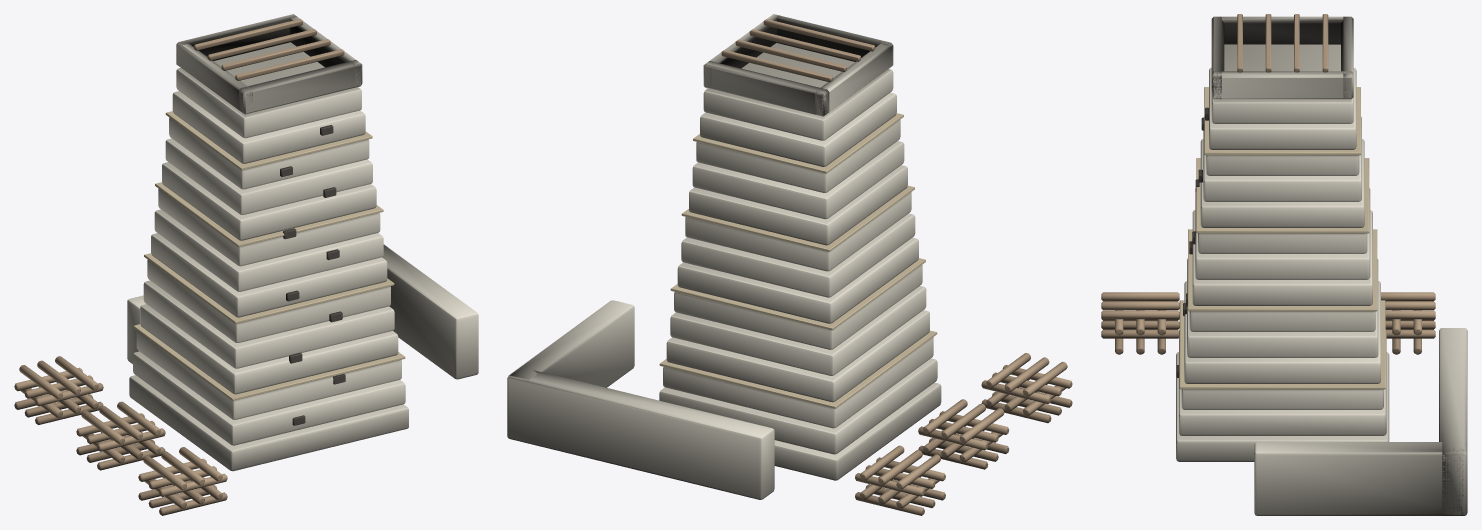
File: fengsui.glb
3 views of the same model, side by side, from view 1: azimuth 30°, elevation 25°; view 2: azimuth 150°, elevation 25°; view 3: azimuth 270°, elevation 25° (orthographic). The views are drawn at different scales.
Parts seen in each view (by area): view 1: fengsui; view 2: fengsui; view 3: fengsui.
Boxes of the visible parts, x1=… form: fengsui: x1=14, y1=14, x2=478, y2=515; fengsui: x1=507, y1=14, x2=1072, y2=515; fengsui: x1=1101, y1=14, x2=1467, y2=515.
Bounding box in the file's own units: 6.45 × 5.86 × 5.15.
